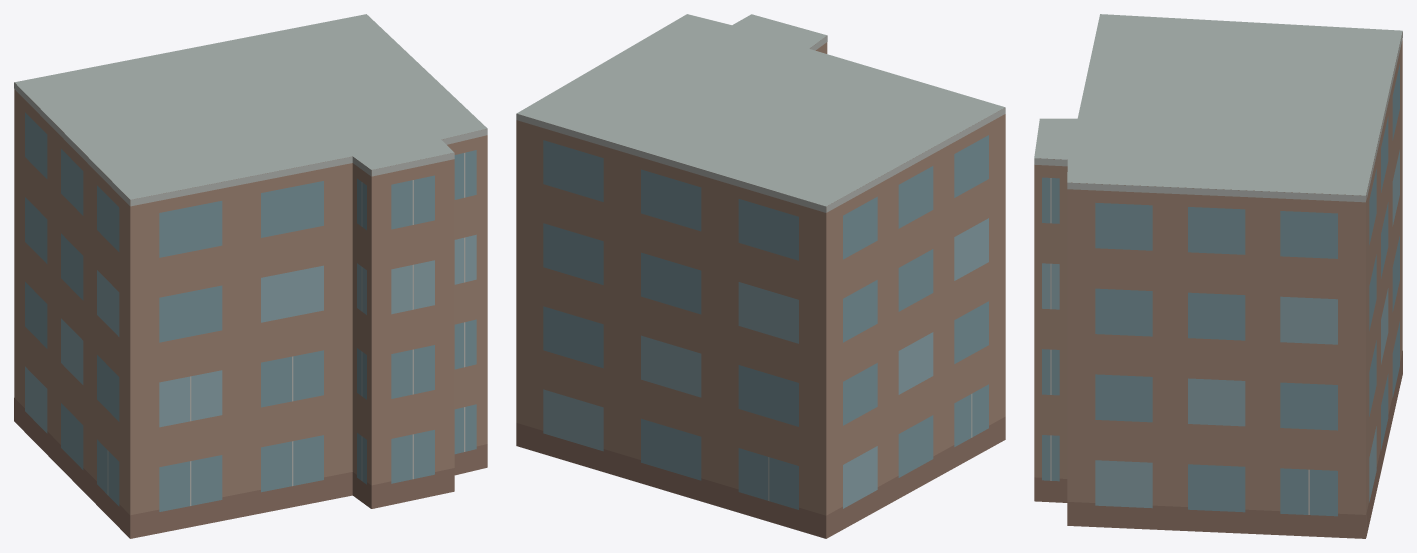
Rendered from survey-upis-32788769.glb.
3 views of the same model, side by side, from view 1: azimuth 30°, elevation 25°; view 2: azimuth 150°, elevation 25°; view 3: azimuth 270°, elevation 25° (orthographic). The views are drawn at different scales.
Parts seen in each view (by area): view 1: survey-upis-32788769.tmp; view 2: survey-upis-32788769.tmp; view 3: survey-upis-32788769.tmp.
Boxes of the visible parts, x1,y1,x2,y2 form: survey-upis-32788769.tmp: (14,14,487,538); survey-upis-32788769.tmp: (516,14,1005,538); survey-upis-32788769.tmp: (1034,14,1402,538).
Size of the model in its own units: 14.25 by 12.55 by 12.23.
